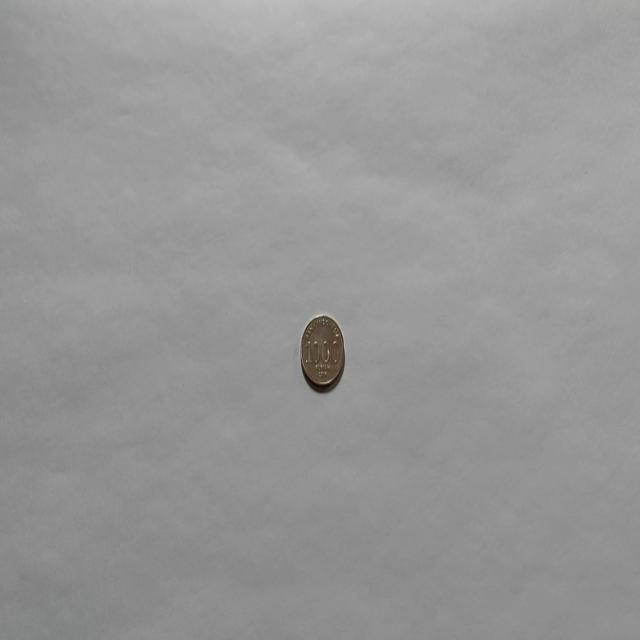seribu rupiah koin: (299, 312, 345, 390)
